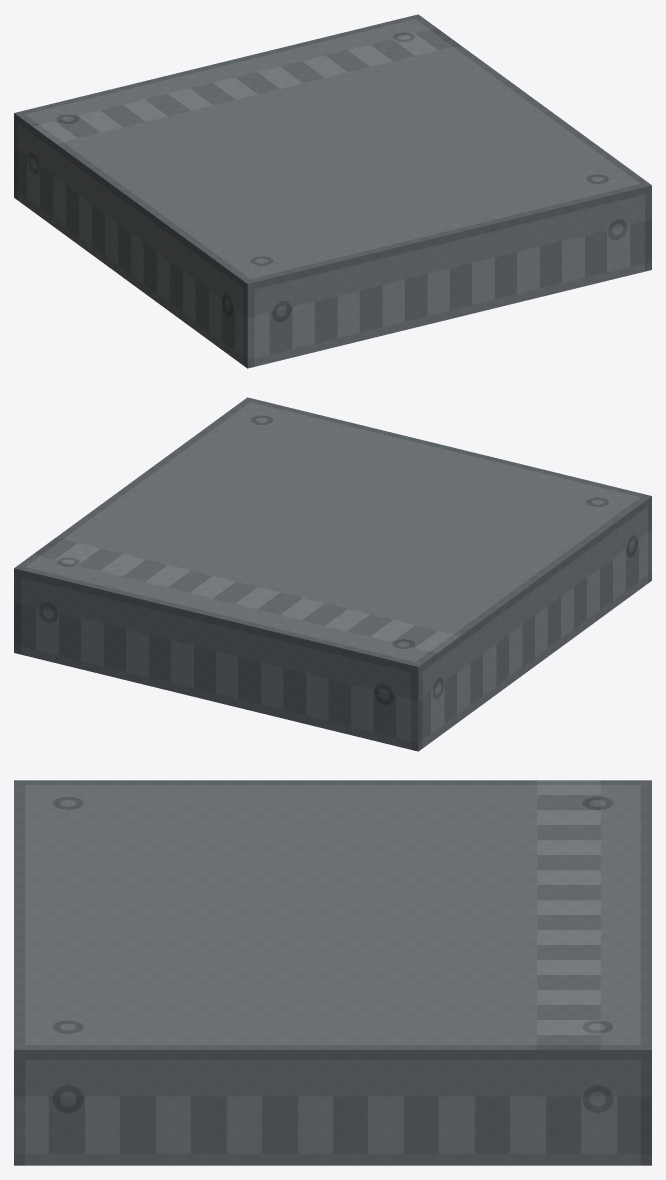
Rendered from C01_SHI_F02_FLOOR_MARKED_v004.glb.
3 views of the same model, one above another, from view 1: azimuth 30°, elevation 25°; view 2: azimuth 150°, elevation 25°; view 3: azimuth 270°, elevation 25° (orthographic). The views are drawn at different scales.
Parts seen in each view (by area): view 1: C01_SHI_F02_FLOOR_MARKED_v002; view 2: C01_SHI_F02_FLOOR_MARKED_v002; view 3: C01_SHI_F02_FLOOR_MARKED_v002.
Boxes of the visible parts, x1,y1,x2,y2 form: C01_SHI_F02_FLOOR_MARKED_v002: (14,14,651,368); C01_SHI_F02_FLOOR_MARKED_v002: (14,397,651,751); C01_SHI_F02_FLOOR_MARKED_v002: (14,780,651,1165).
Size of the model in its own units: 1 by 0.2 by 1.
3 materials, 3 textured.
